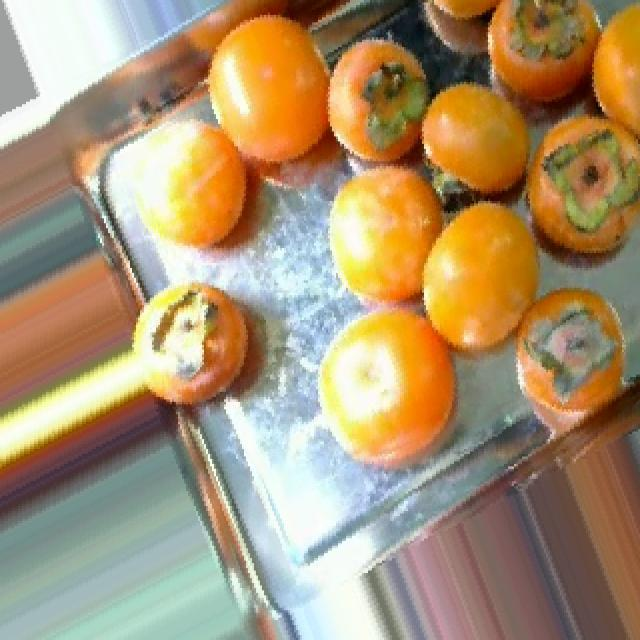Fruit: (404, 57, 552, 223)
